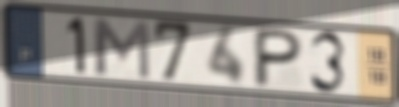1: (65, 16, 89, 76)
3: (306, 30, 356, 96)
4: (204, 23, 249, 90)
7: (151, 17, 196, 86)
M: (89, 15, 154, 82)
P: (250, 26, 307, 90)
